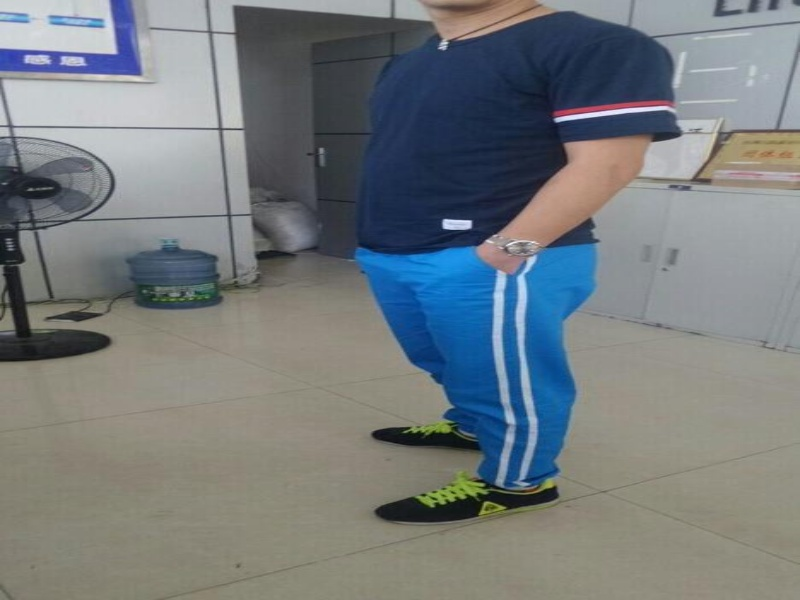short_sleeved_shirt: (347, 9, 689, 260)
trousers: (344, 223, 603, 489)
